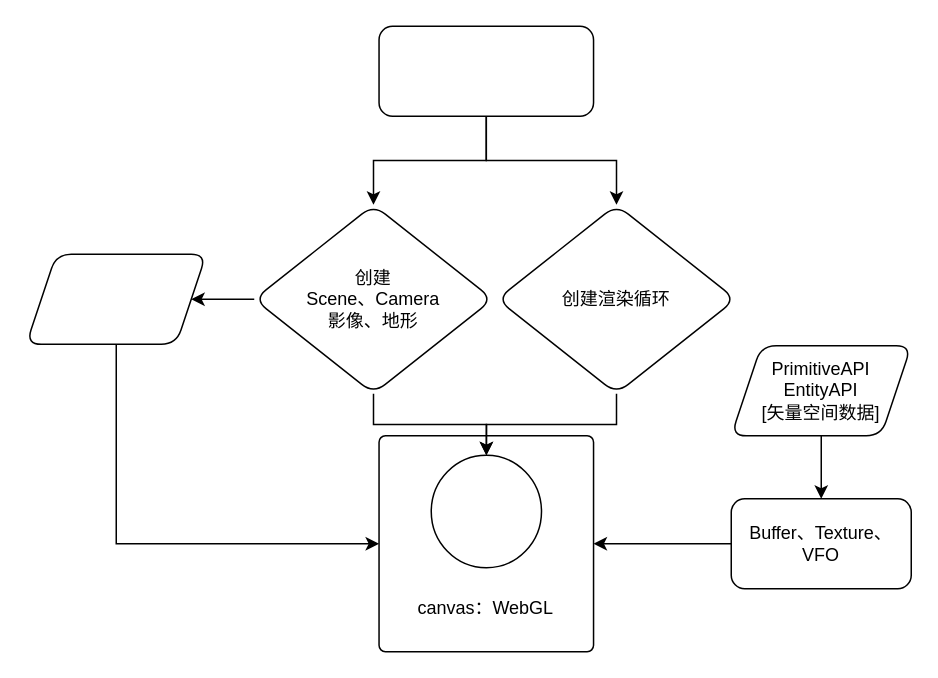
The diagram is 938 pixels wide and 678 high, and some of its shapes have lost their labels. The shapes that lost their labels are listed below. From the top down, each one's centre as x and y in pixels, then its label:
the point at 486,70: 入口：CesiumWidget
the point at 115,298: 影像、地形 [Globe表面数据]
the point at 486,511: Cesium 渲染循环
